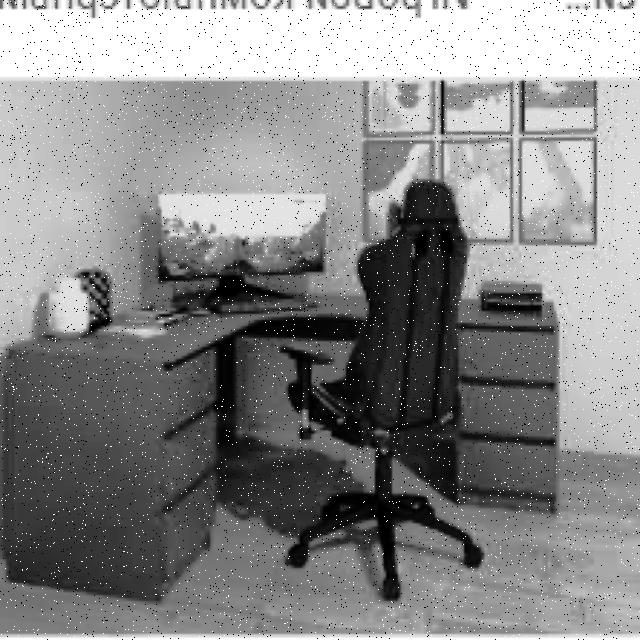book: (282, 177, 484, 598)
table: (0, 290, 562, 601)
